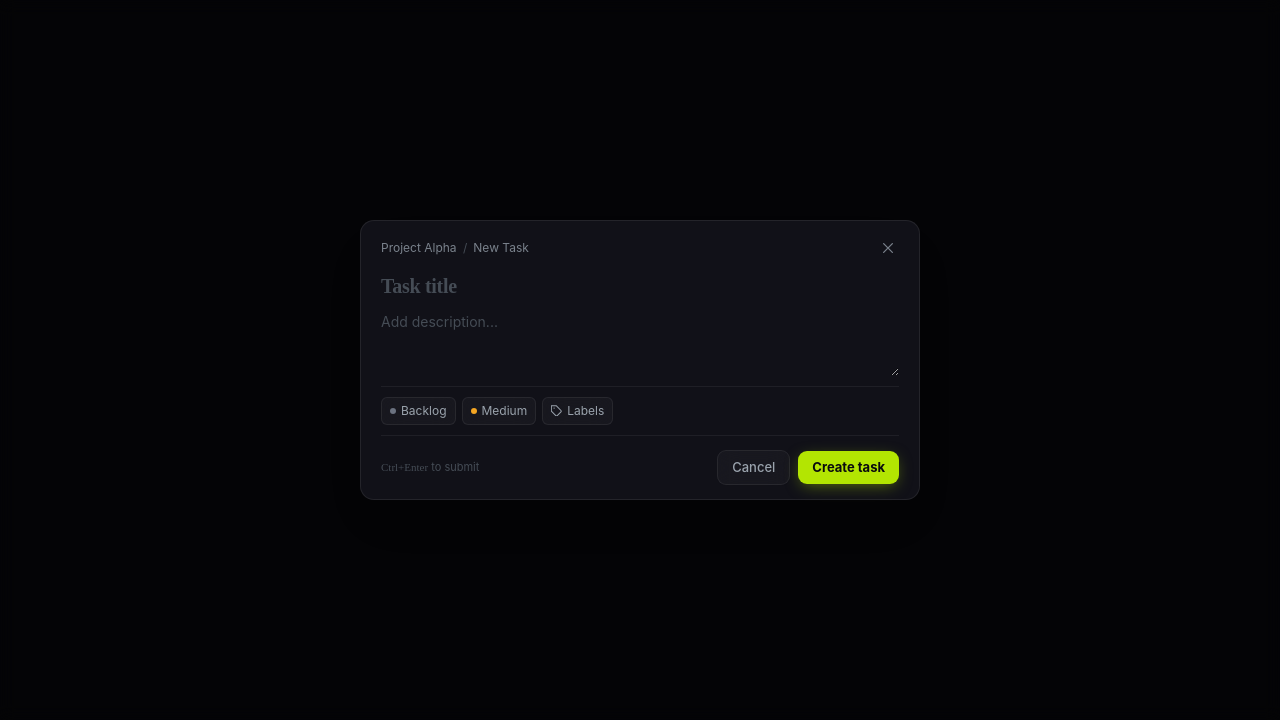
it: TaskModal › shows column picker when column pill is clicked
Click the button "Backlog". click: [418, 411]
box: [381,397,456,425]
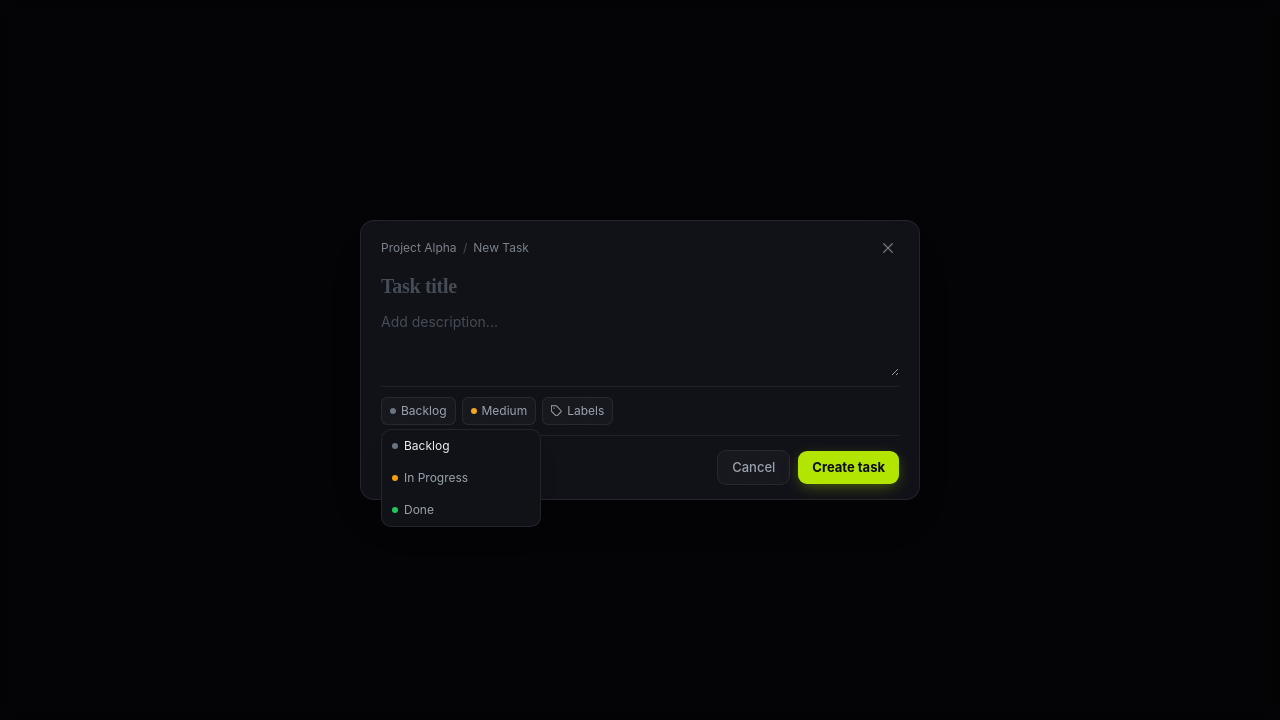
Now the button "In Progress" is shown, box [382,462,540,494]
